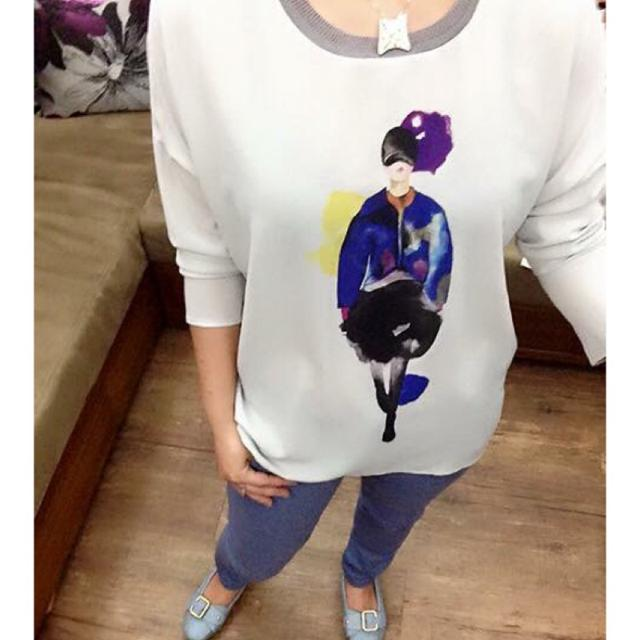Pants_Leggings: (212, 447, 468, 591)
